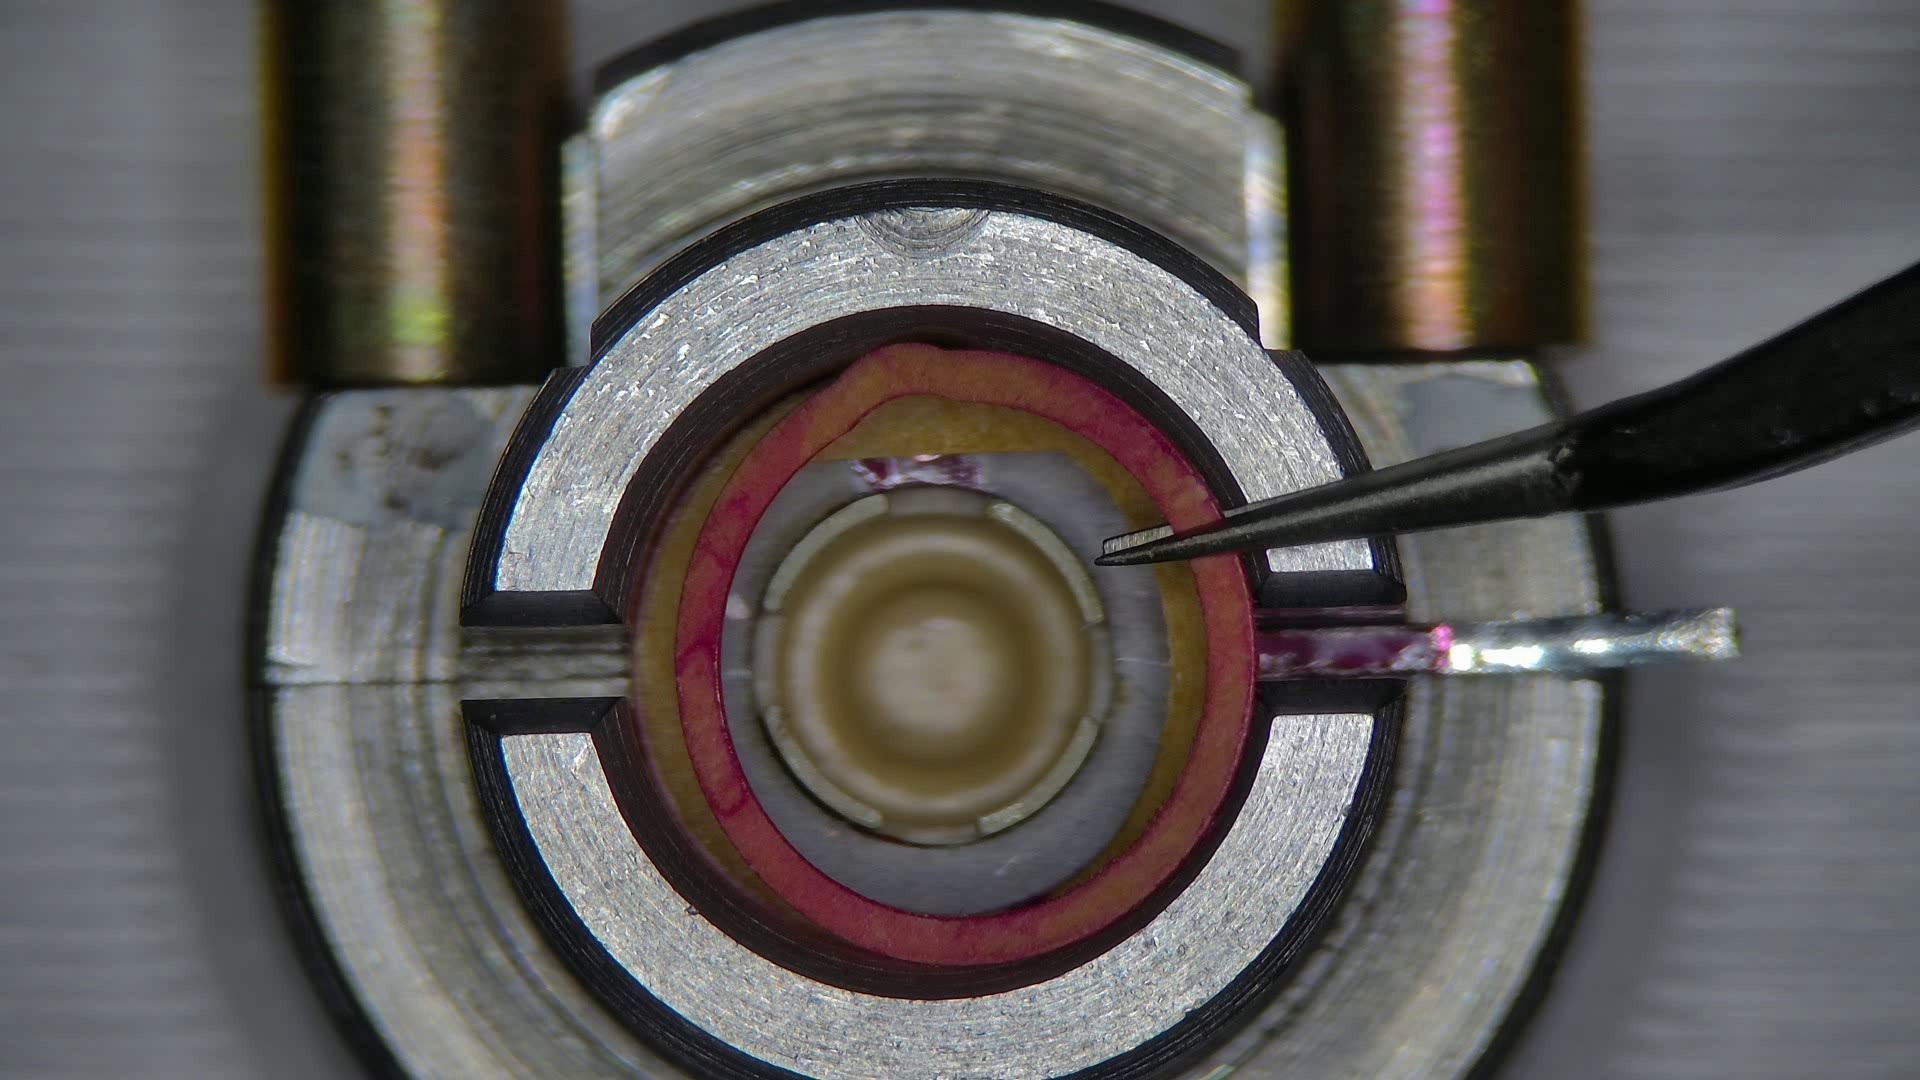GreyOring: (675, 343, 1250, 967)
YellowOring: (719, 458, 1163, 916)
redOring: (808, 394, 1164, 530), (638, 464, 736, 864), (1120, 559, 1203, 839)
